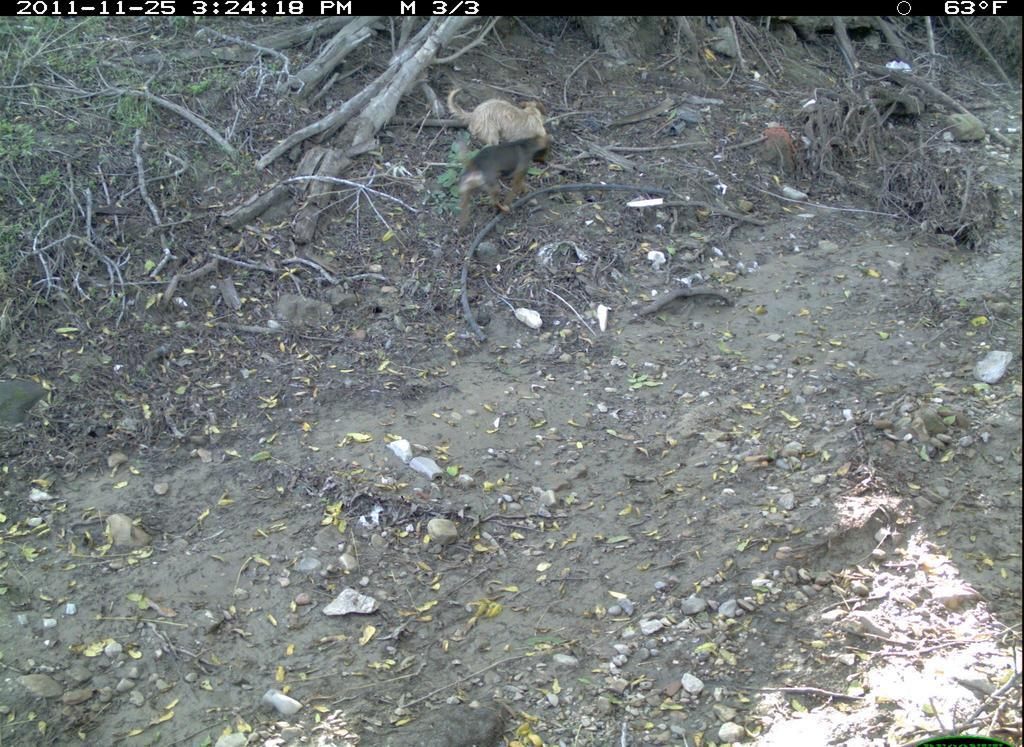dog: (451, 137, 573, 245), (432, 76, 568, 153)
